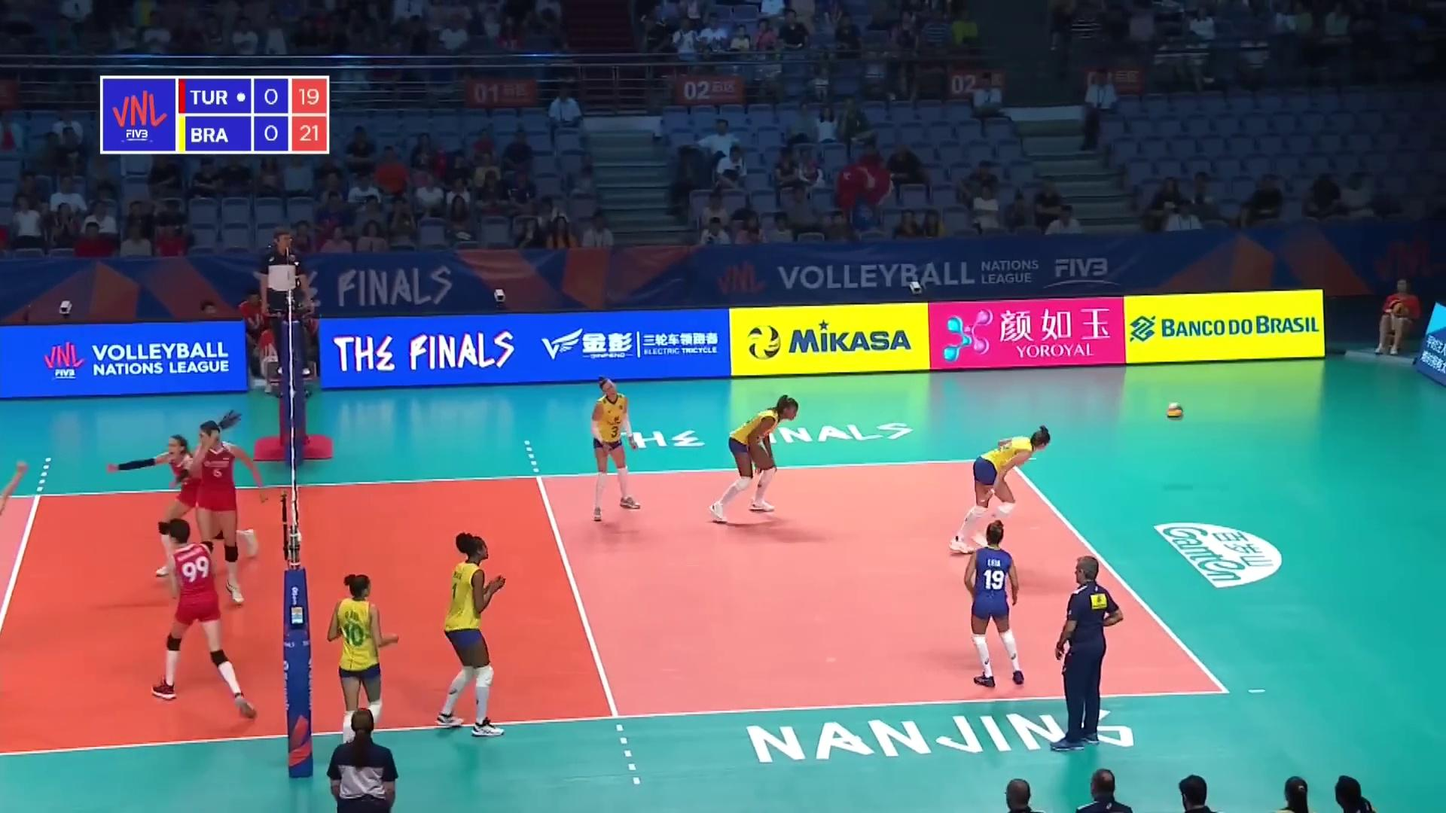player: (152, 518, 261, 719), (112, 434, 261, 572), (438, 534, 509, 733), (189, 420, 262, 607), (328, 573, 401, 758), (950, 429, 1049, 556), (709, 398, 799, 524), (964, 519, 1024, 690), (592, 381, 642, 524)
refree: (261, 231, 315, 374), (330, 711, 398, 813)
